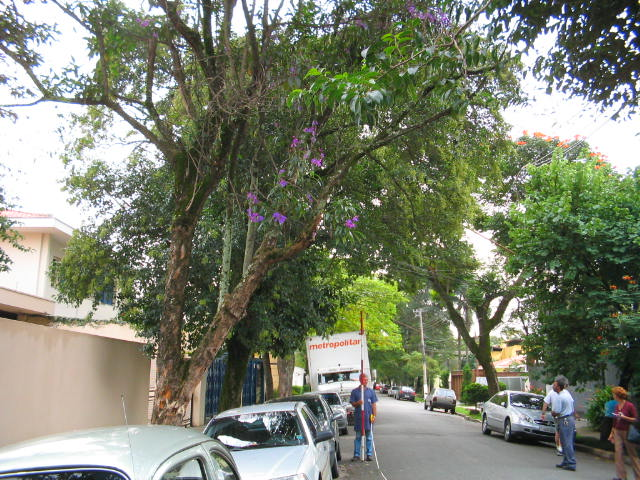stick: (352, 309, 368, 461)
